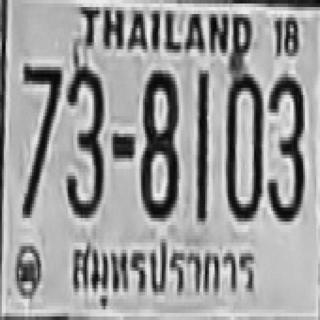N00: (224, 70, 262, 218)
N01: (195, 70, 208, 218)
N03: (64, 63, 102, 215), (265, 70, 303, 218)
N07: (21, 60, 60, 215)
N08: (139, 67, 177, 215)
P57: (65, 234, 263, 300)
